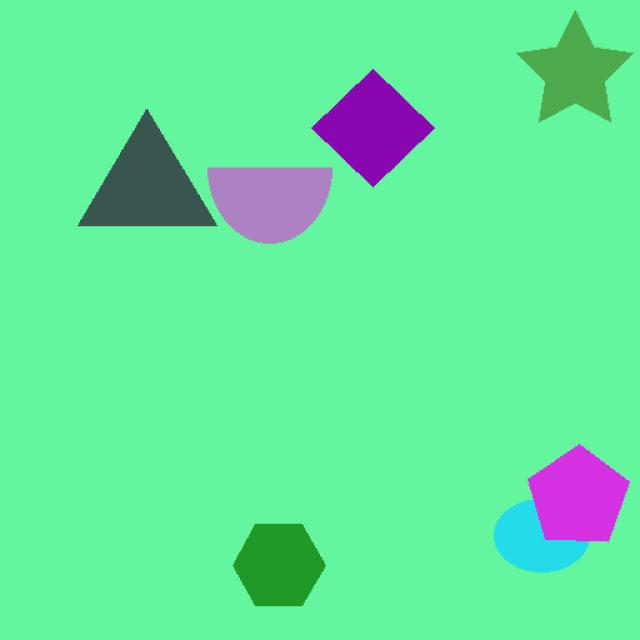Hexagon: (206, 498, 350, 626)
Pentagon: (520, 430, 638, 562)
Semicircle: (196, 148, 355, 258), (469, 482, 602, 580)
Star: (498, 12, 630, 160)
Triangle: (60, 94, 224, 253)
square: (298, 71, 448, 207)
